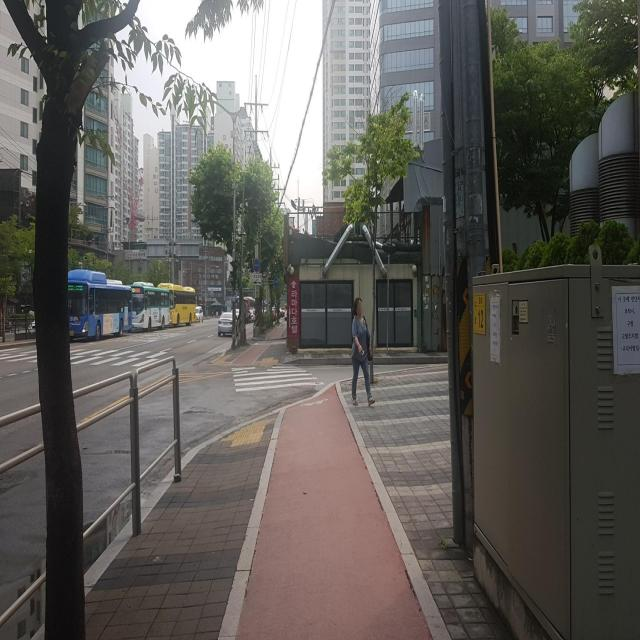횡단보도: (230, 366, 324, 394), (72, 344, 165, 364)
